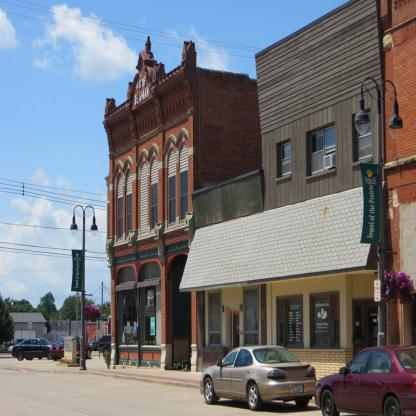Car: (199, 343, 319, 412), (314, 340, 416, 416), (48, 337, 90, 361), (13, 339, 54, 361), (92, 334, 113, 354), (51, 339, 65, 358)
